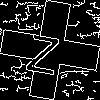Z: (25, 25, 63, 75)
